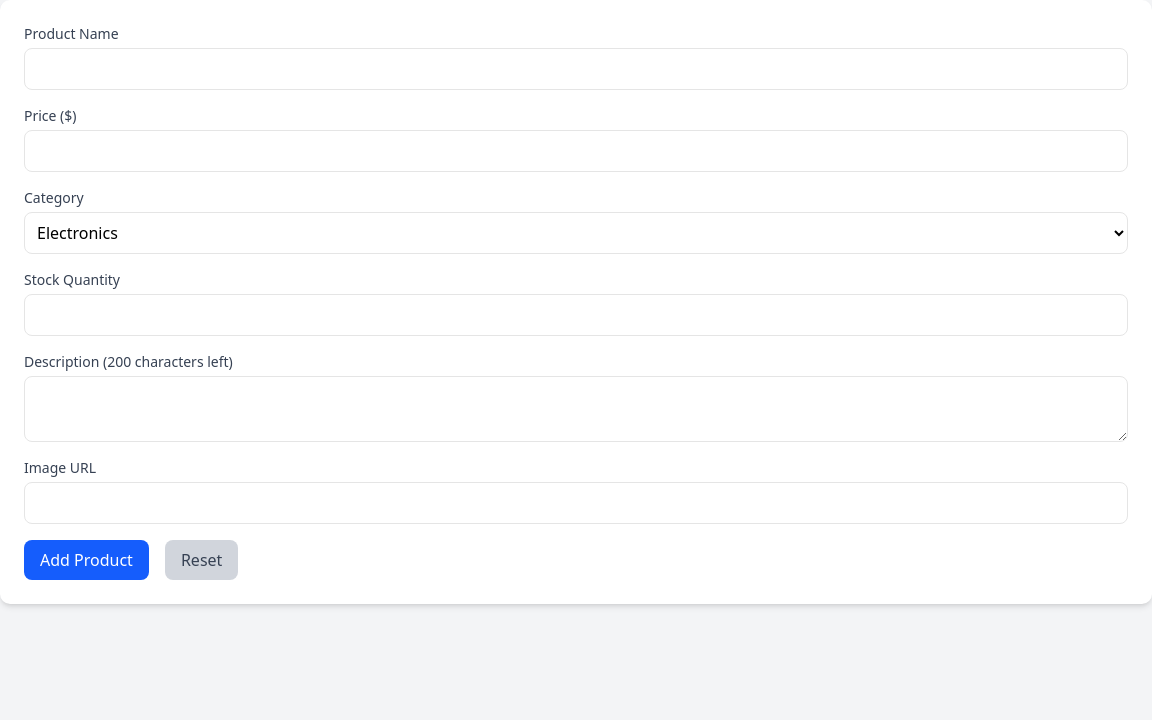
Test: ProductForm › should handle empty form submission
Click the button "Add Product" at [86, 560], box [24,540,149,580]
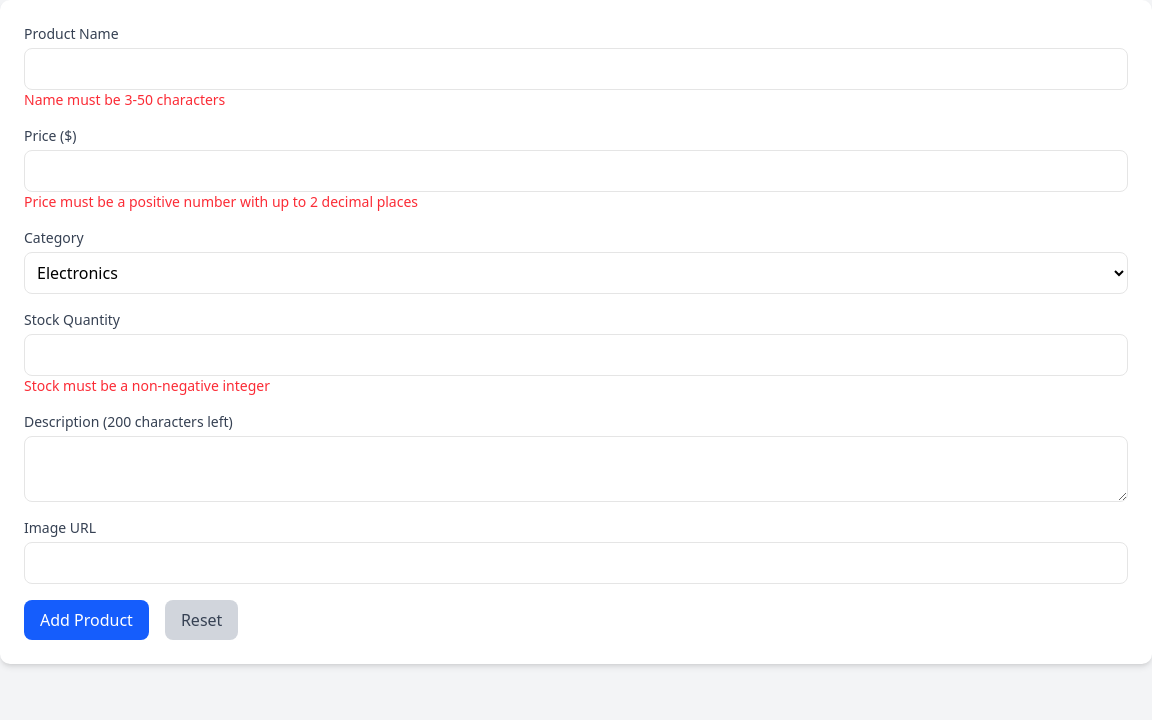
Expected: the text "Name must be 3-50 characters" is shown, [24,90,225,109]
Expected: the text "Price must be a positive number with up to 2 decimal places" is shown, [24,192,418,211]
Expected: the text "Stock must be a non-negative integer" is shown, [24,376,270,395]
